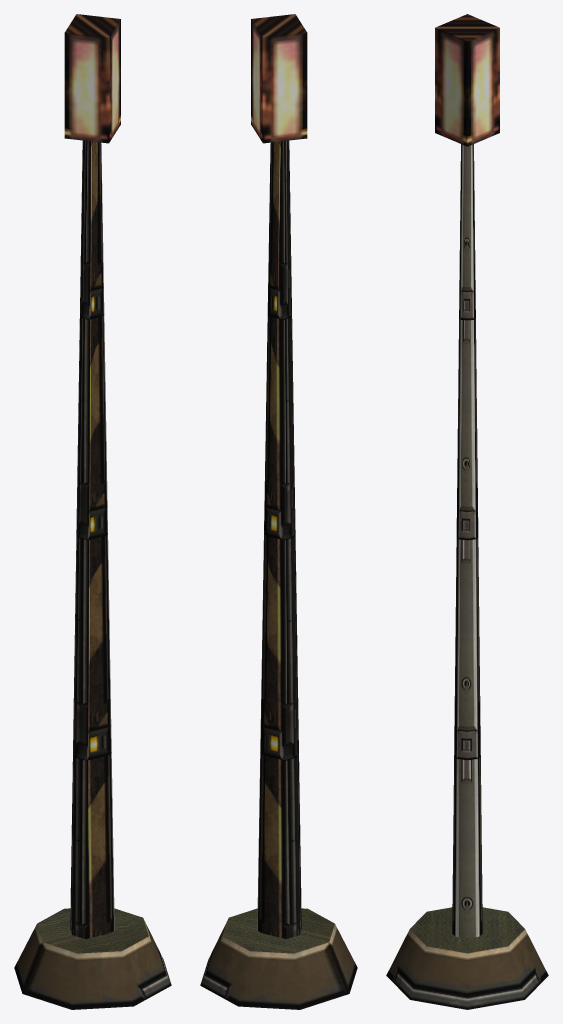
Rendered from antenna.obj.
3 renders of one model, left to right at view 1: azimuth 30°, elevation 25°; view 2: azimuth 150°, elevation 25°; view 3: azimuth 270°, elevation 25°, orthographic.
Visible parts, largest first — view 1: group40 pCylinder39, pCylinder38 group40, group40 pCube81; view 2: group40 pCylinder39, pCylinder38 group40, group40 pCube81; view 3: group40 pCylinder39, pCylinder38 group40, group40 pCube81.
Part boxes in pixels (x1,y1,x2,y2): group40 pCylinder39: (70, 140, 114, 938); pCylinder38 group40: (14, 908, 171, 1009); group40 pCube81: (64, 14, 120, 143); group40 pCylinder39: (257, 140, 301, 938); pCylinder38 group40: (200, 908, 357, 1009); group40 pCube81: (251, 14, 307, 143); group40 pCylinder39: (452, 144, 482, 937); pCylinder38 group40: (386, 907, 548, 1009); group40 pCube81: (435, 14, 499, 146).
Bounding box in the file's own units: 3.56 × 22.92 × 3.56.
2 materials, 2 textured.
